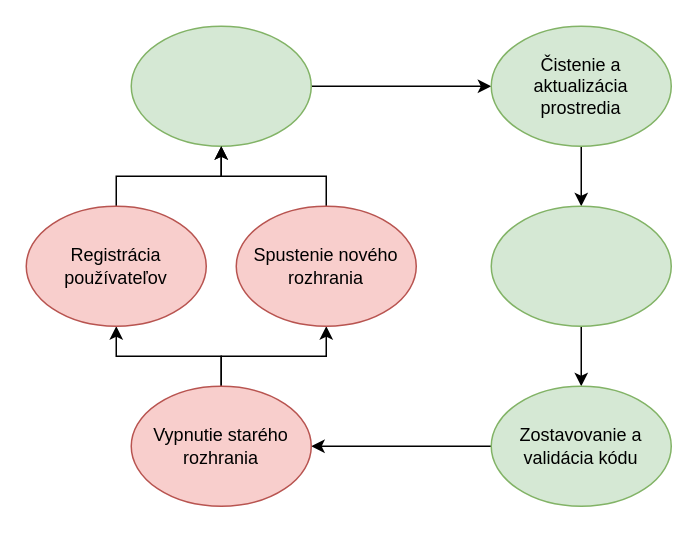
This 698x533 diagram has some shape labels left out. The shapes that lost their labels are listed below. From the top down, each one's centre as x and y in pixels, then its label:
the point at 220,85: Prijatie požiadavky
the point at 580,265: Generovanie kódu
